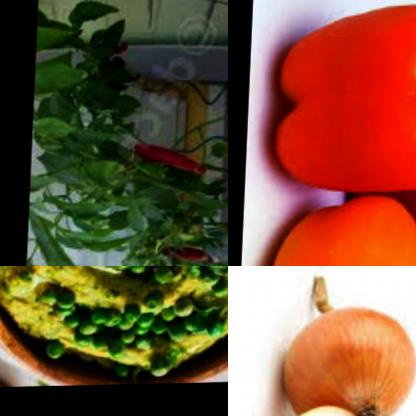bell pepper: (261, 0, 416, 198), (332, 108, 416, 266), (254, 194, 416, 266)
hot pepper: (122, 140, 214, 190), (156, 241, 219, 266)
onion: (281, 302, 416, 416)
peas: (73, 289, 222, 353), (35, 287, 87, 318), (145, 266, 187, 296), (146, 353, 184, 383), (84, 266, 161, 276), (210, 266, 228, 305), (203, 266, 228, 291), (20, 266, 43, 290), (115, 364, 141, 383), (40, 352, 66, 366)
